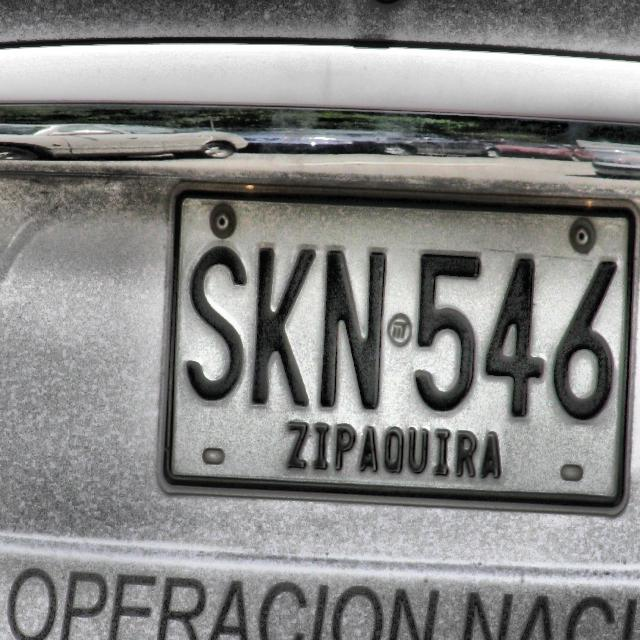plate: (156, 180, 640, 516)
